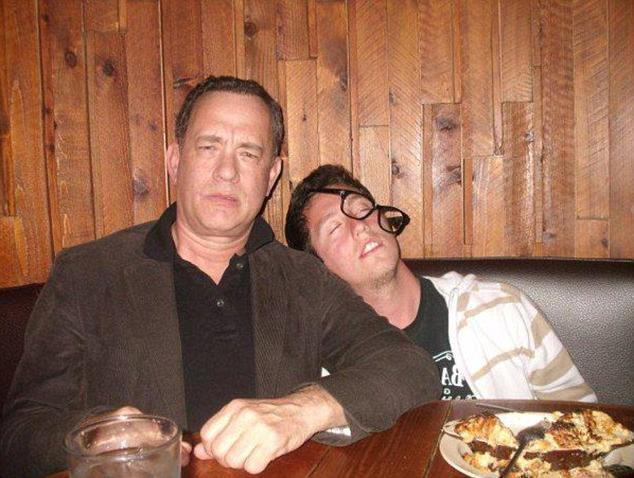Drunk: (184, 91, 273, 230), (302, 190, 403, 279)
